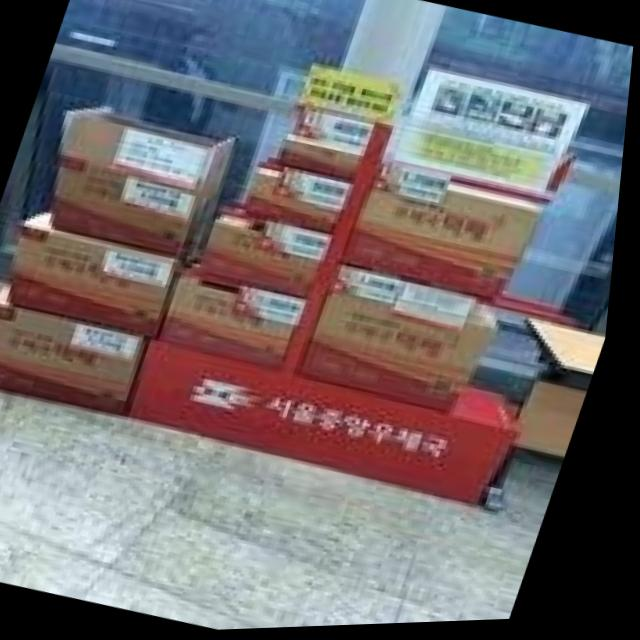box: (304, 268, 500, 417), (344, 167, 543, 304), (57, 109, 238, 258), (13, 207, 186, 340), (162, 253, 331, 374), (0, 283, 152, 417), (198, 210, 354, 303), (278, 106, 398, 189), (249, 157, 373, 236)
